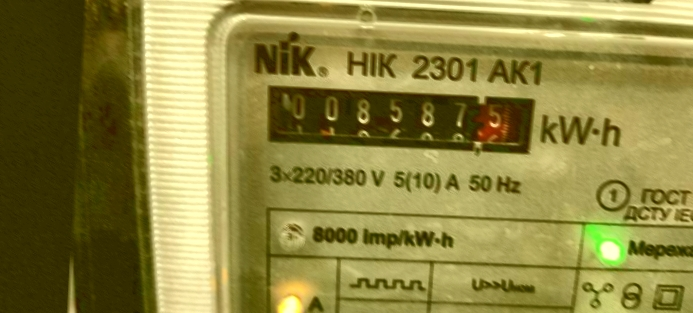0: (289, 90, 308, 119), (323, 92, 342, 121)
5: (487, 100, 505, 130), (387, 95, 405, 124)
7: (451, 97, 469, 128)
8: (419, 97, 437, 128), (355, 95, 372, 124)
screen: (247, 67, 553, 167)
